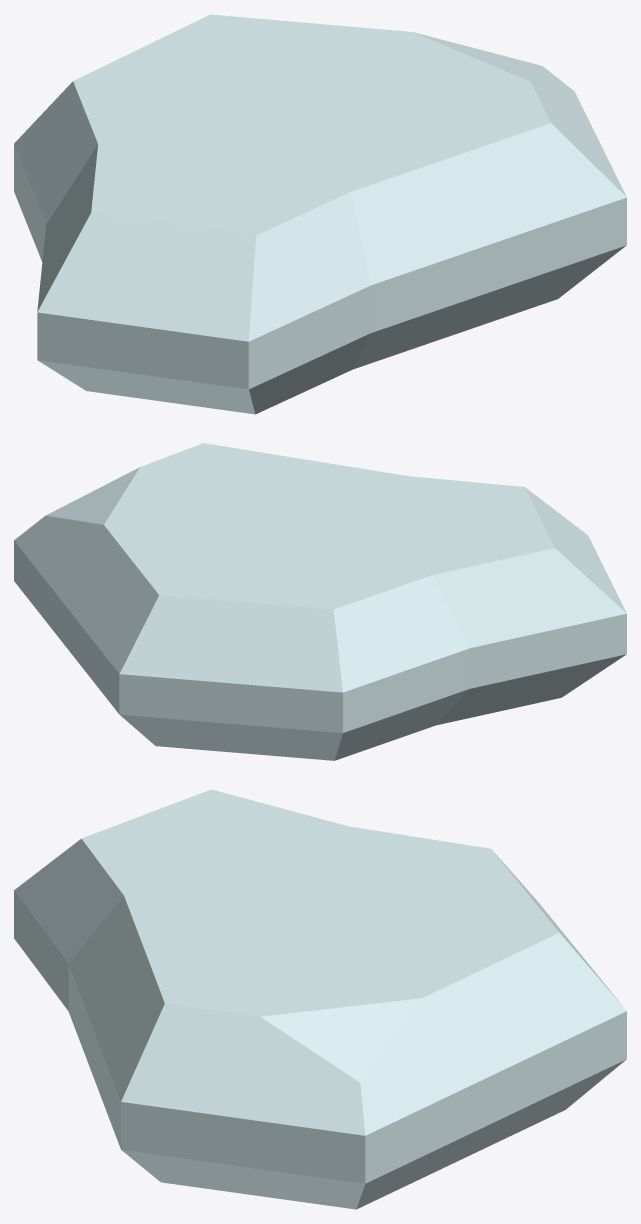
The model's file is stone_largeE.glb.
3 renders of one model, top to bottom at view 1: azimuth 30°, elevation 25°; view 2: azimuth 150°, elevation 25°; view 3: azimuth 270°, elevation 25°, orthographic. The views are drawn at different scales.
Visible parts, largest first — view 1: stone_largeE; view 2: stone_largeE; view 3: stone_largeE.
Part boxes in pixels (<box>): stone_largeE: <box>14,14,626,414</box>; stone_largeE: <box>14,443,626,760</box>; stone_largeE: <box>14,789,626,1209</box>.
Bounding box in the file's own units: 1.1 × 0.2922 × 0.9199.
1 material, 1 textured.
